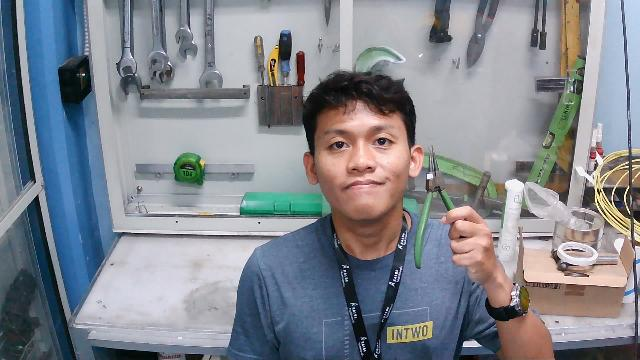tang_cucut_lancip_2: (411, 144, 470, 272)
